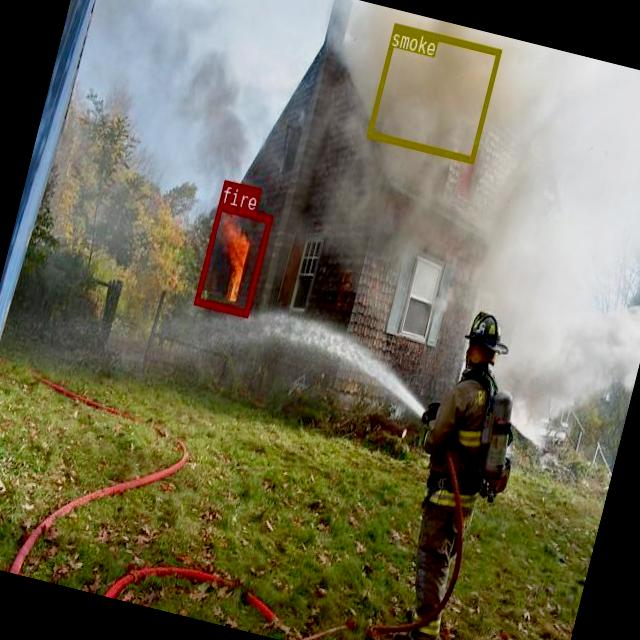fire: (192, 202, 272, 316)
smoke: (366, 22, 500, 162)
